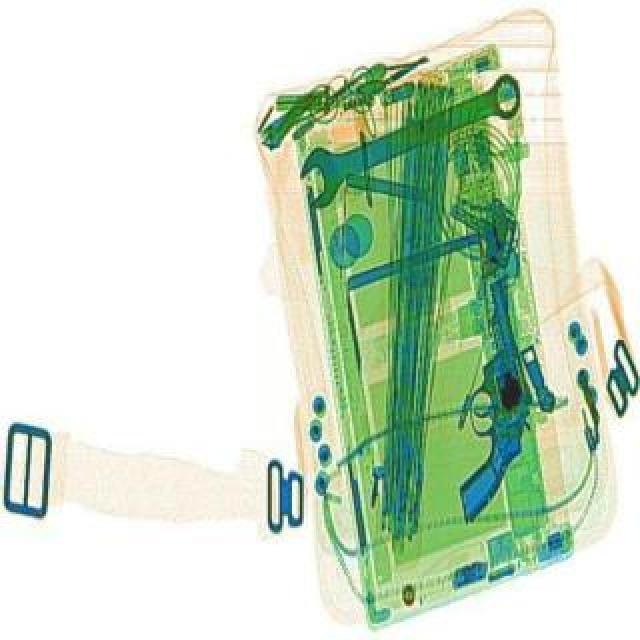gun: (404, 280, 564, 526)
scissors: (292, 68, 536, 216)
